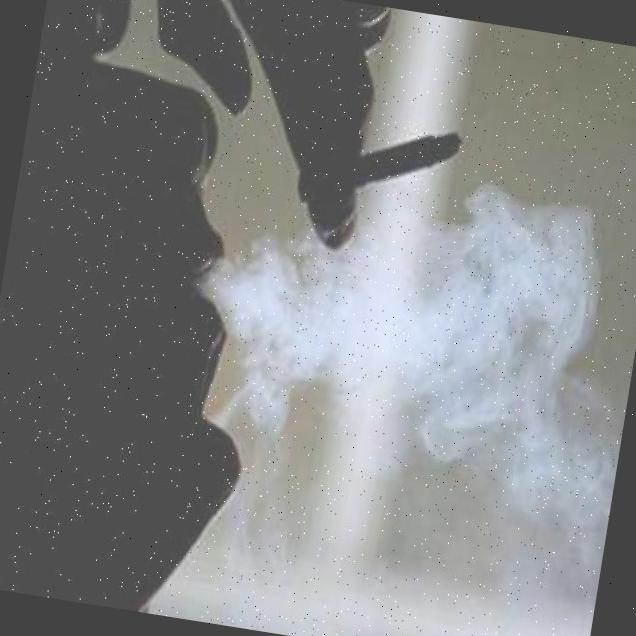smoke: (231, 164, 605, 445)
